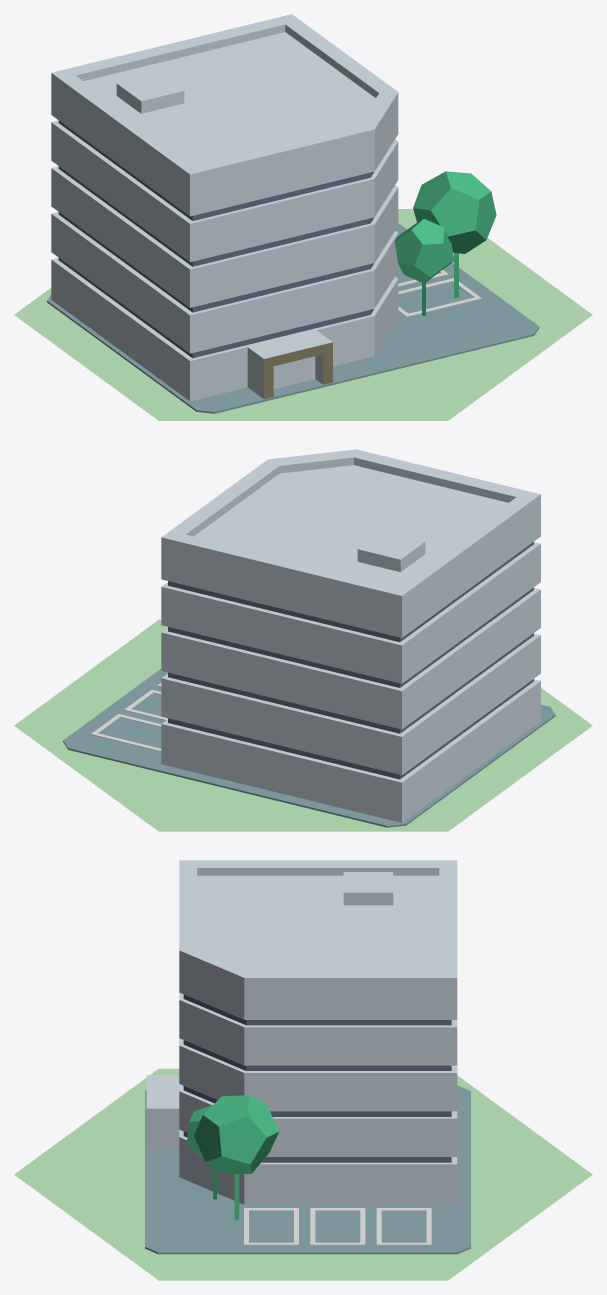
Rendered from Temp_Building3.fbx.
The picture shows the model from 3 angles, top to bottom: view 1: azimuth 30°, elevation 25°; view 2: azimuth 150°, elevation 25°; view 3: azimuth 270°, elevation 25°; orthographic projection.
Parts seen in each view (by area): view 1: 柱体.011; view 2: 柱体.011; view 3: 柱体.011.
Boxes of the visible parts, bbox=[...] form: 柱体.011: bbox=[14, 14, 592, 420]; 柱体.011: bbox=[14, 449, 592, 831]; 柱体.011: bbox=[14, 860, 592, 1280].
Size of the model in its own units: 165 by 84.54 by 190.
